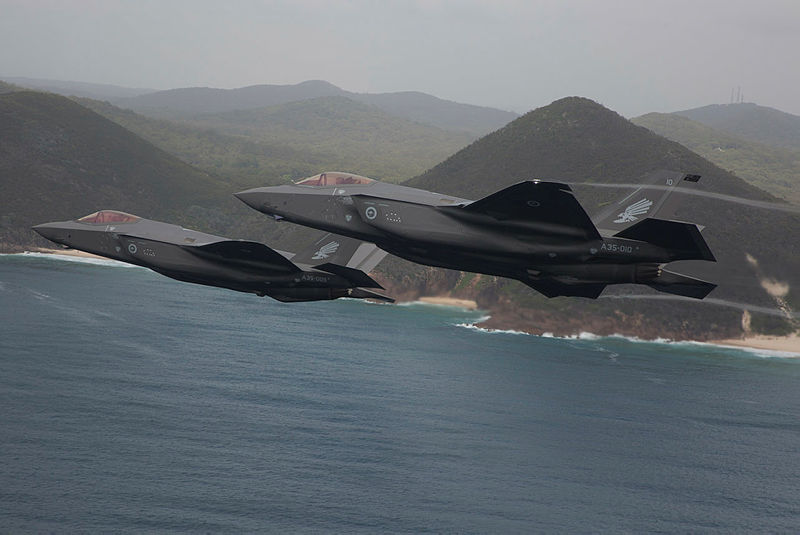F-35 Lightning: (215, 122, 764, 348), (22, 189, 387, 357)
